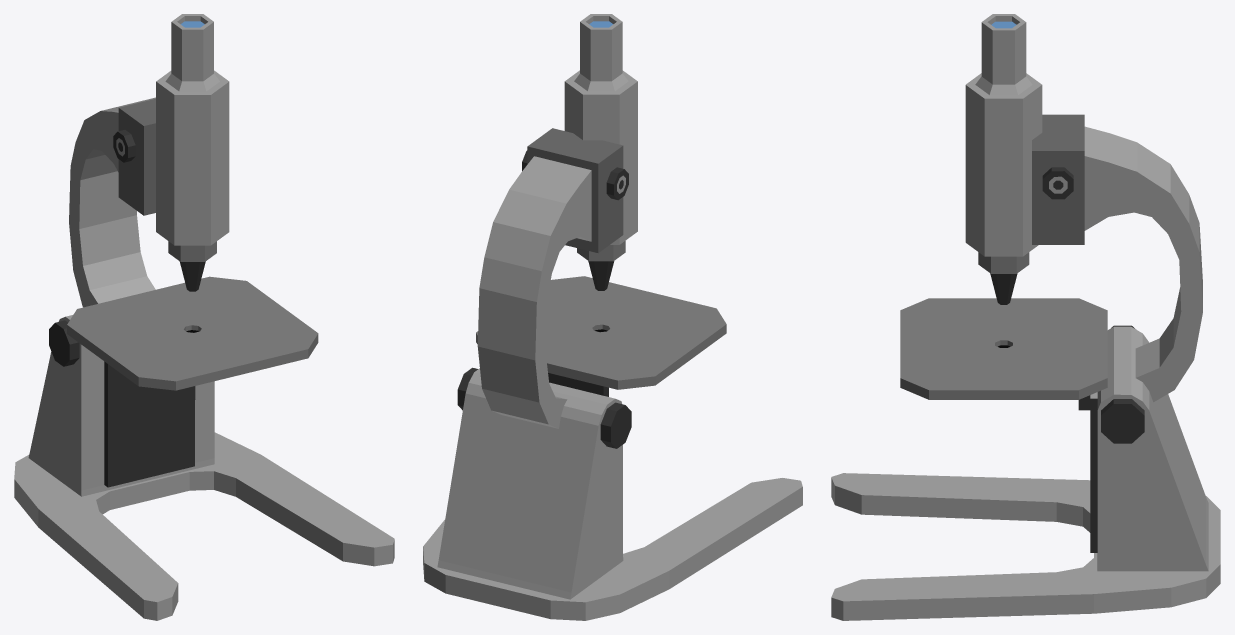
The model's file is Int_ScienceMicroscope01.fbx.
The picture shows the model from 3 angles, left to right: view 1: azimuth 30°, elevation 25°; view 2: azimuth 150°, elevation 25°; view 3: azimuth 270°, elevation 25°; orthographic projection. The views are drawn at different scales.
Visible parts, largest first — view 1: Int_ScienceMicroscope01; view 2: Int_ScienceMicroscope01; view 3: Int_ScienceMicroscope01.
Boxes of the visible parts, bbox=[...] form: Int_ScienceMicroscope01: bbox=[14, 14, 394, 620]; Int_ScienceMicroscope01: bbox=[423, 14, 802, 620]; Int_ScienceMicroscope01: bbox=[831, 14, 1220, 620].
Size of what is drawn, in the model's own units: 22.44 by 28.79 by 43.61.
